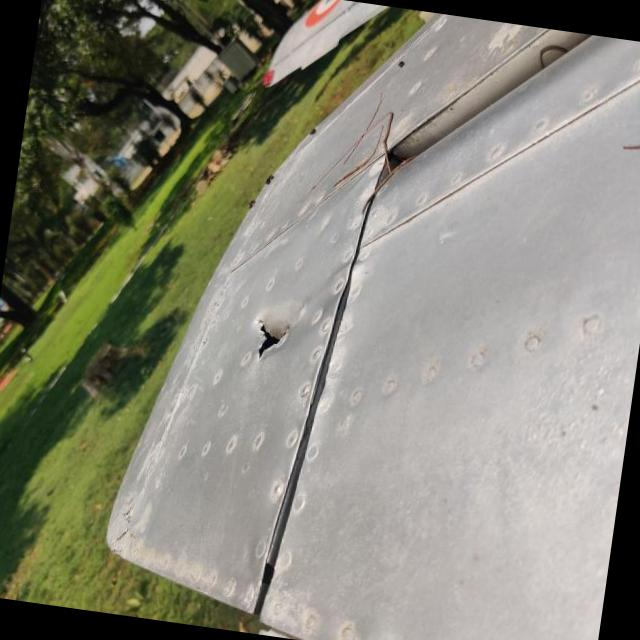Crack: (258, 303, 303, 358)
